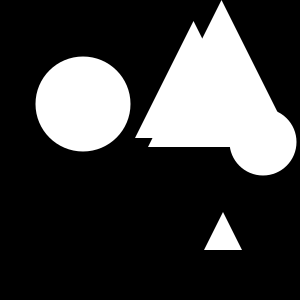rectangle: (36, 57, 130, 152), (230, 109, 296, 176)
triangle: (148, 0, 295, 147), (135, 21, 252, 138), (204, 212, 242, 250)
